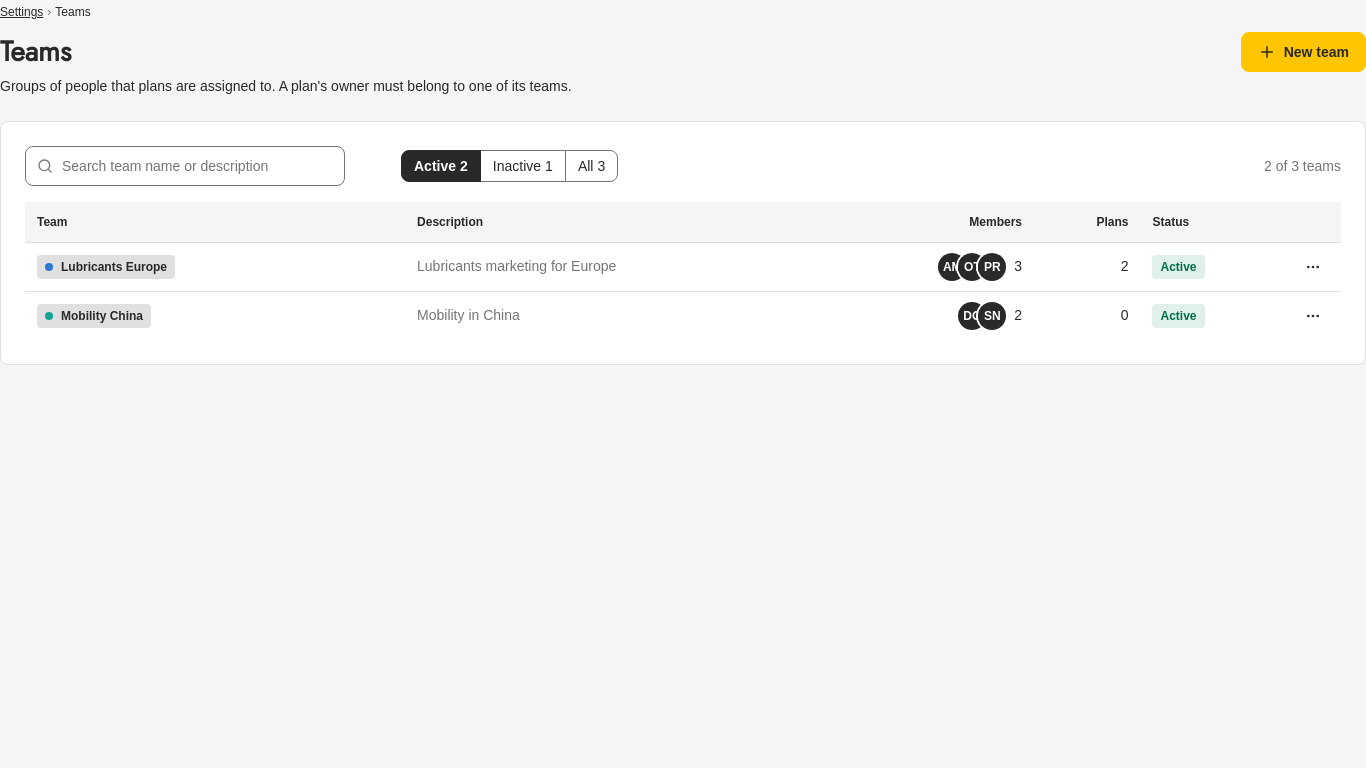
Scenario: TeamsPage (feature 003, US2): Delete, Set team inactive and Reactivate › shows the plans when one started using the team meanwhile (in_use)
The width and height of the screenshot is (1366, 768).
Click the button named "Actions for Mobility China" at (1313, 316), box [1297,300,1329,332]
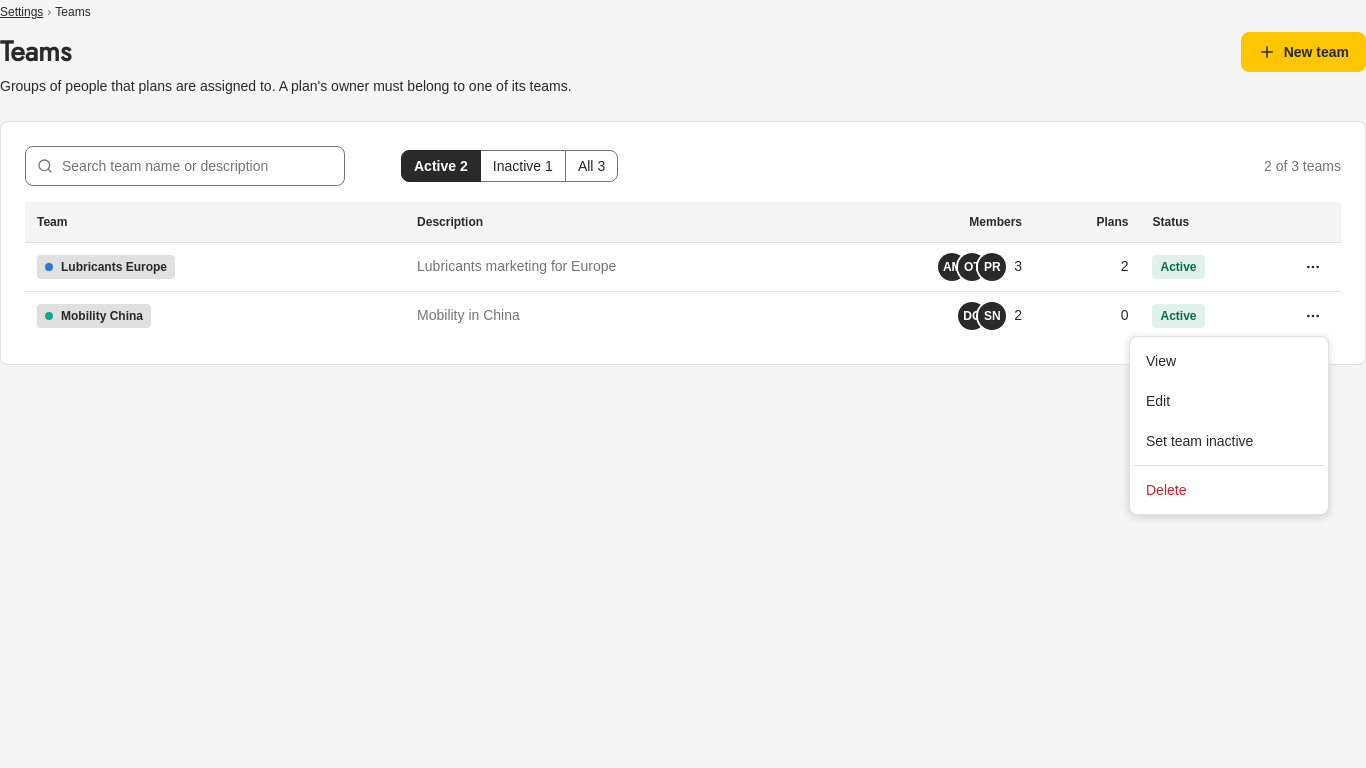
Click the menu item "Delete" at (1166, 490), box [1146,482,1186,498]
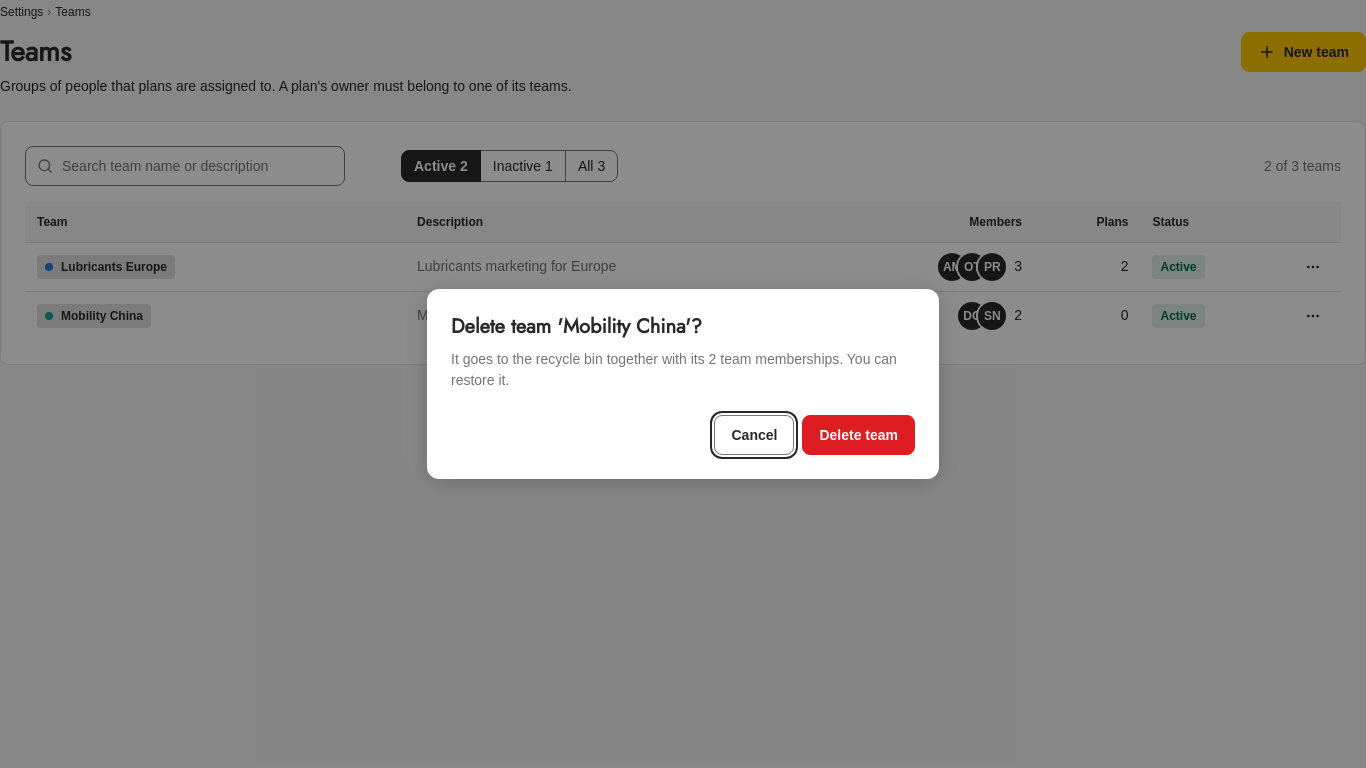
Click the button "Delete team" at (859, 435), box [802,415,915,455]
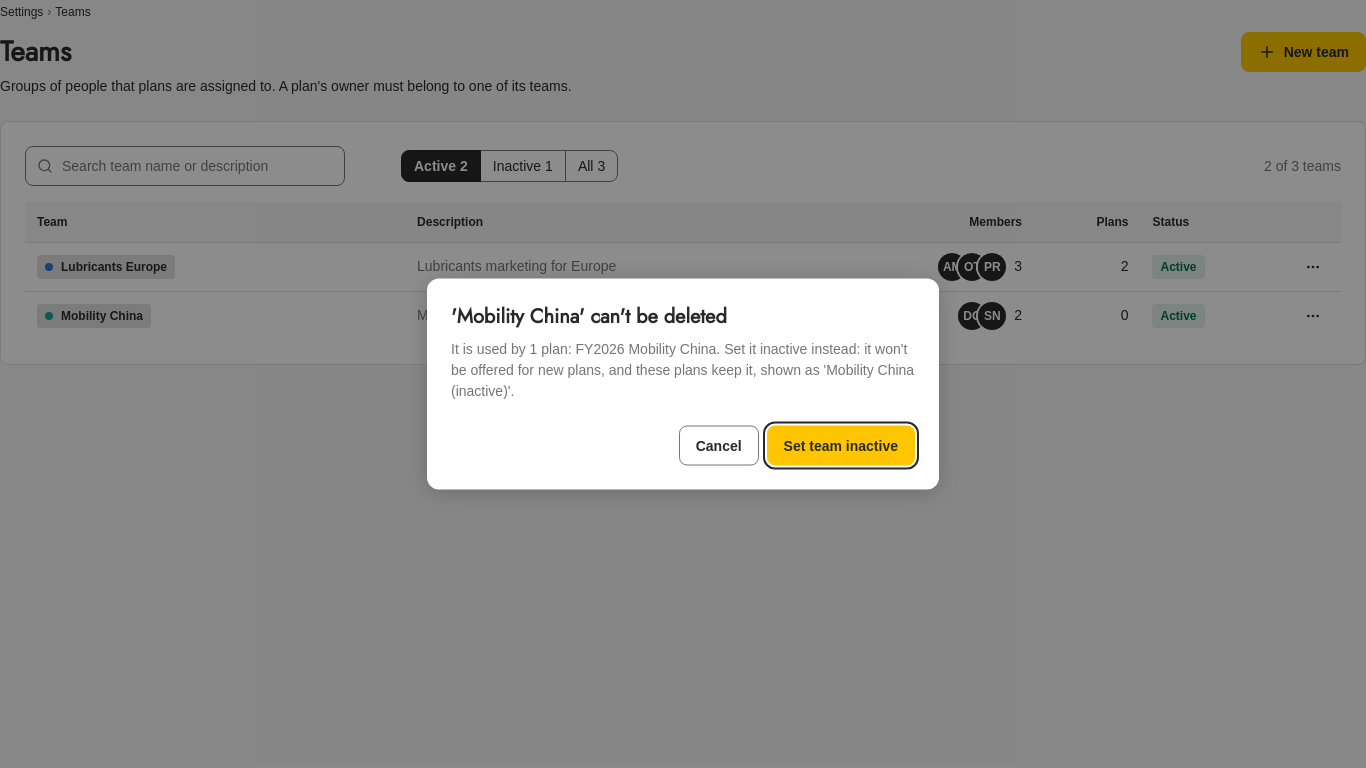
Check: the dialog "'Mobility China' can't be deleted" shows "It is used by 1 plan: FY2026 Mobility China.", box [451,340,914,398]
